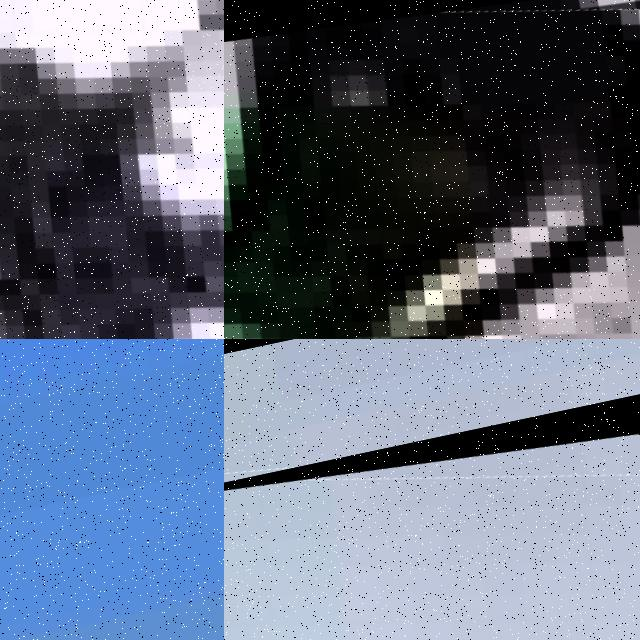drone: (224, 0, 640, 339), (224, 370, 640, 640), (0, 0, 224, 339)
